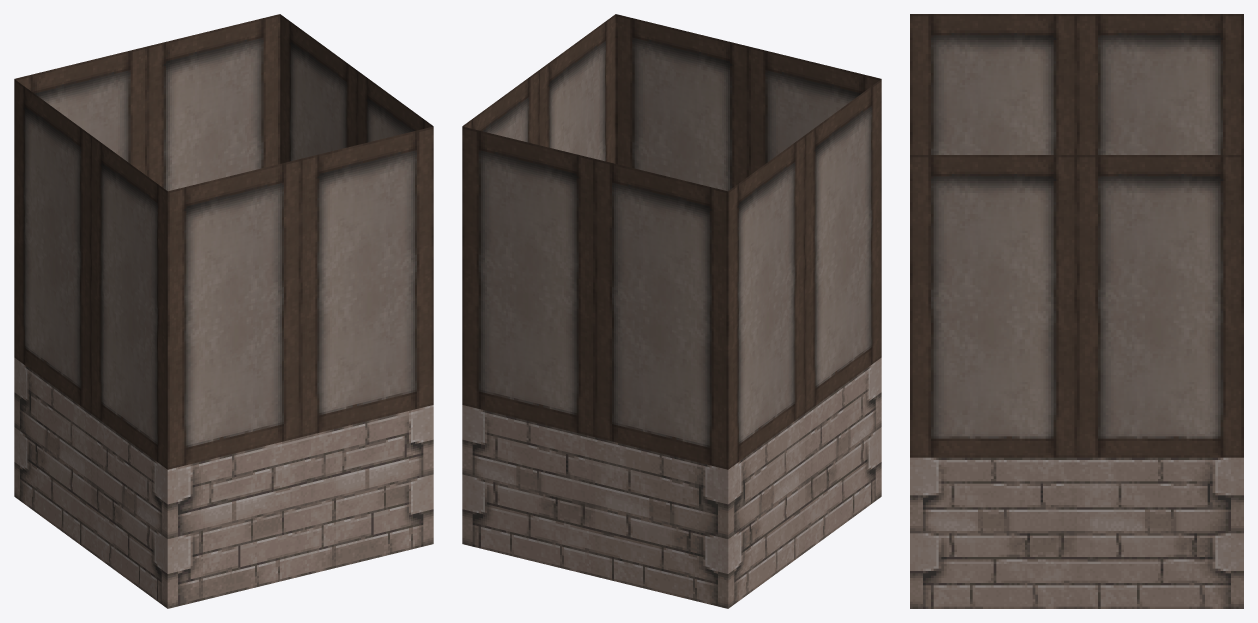
Rendered from plaster_wall_stone_base_half.glb.
3 views of the same model, side by side, from view 1: azimuth 30°, elevation 25°; view 2: azimuth 150°, elevation 25°; view 3: azimuth 270°, elevation 25° (orthographic). The views are drawn at different scales.
Visible parts, largest first — view 1: plaster_wall_stone_base_half; view 2: plaster_wall_stone_base_half; view 3: plaster_wall_stone_base_half.
Part boxes in pixels (x1,y1,x2,y2): plaster_wall_stone_base_half: (14, 14, 433, 608); plaster_wall_stone_base_half: (462, 14, 881, 608); plaster_wall_stone_base_half: (910, 14, 1243, 608).
Bounding box in the file's own units: 2 × 3 × 2.
Materials: 1 (1 with a texture image).
